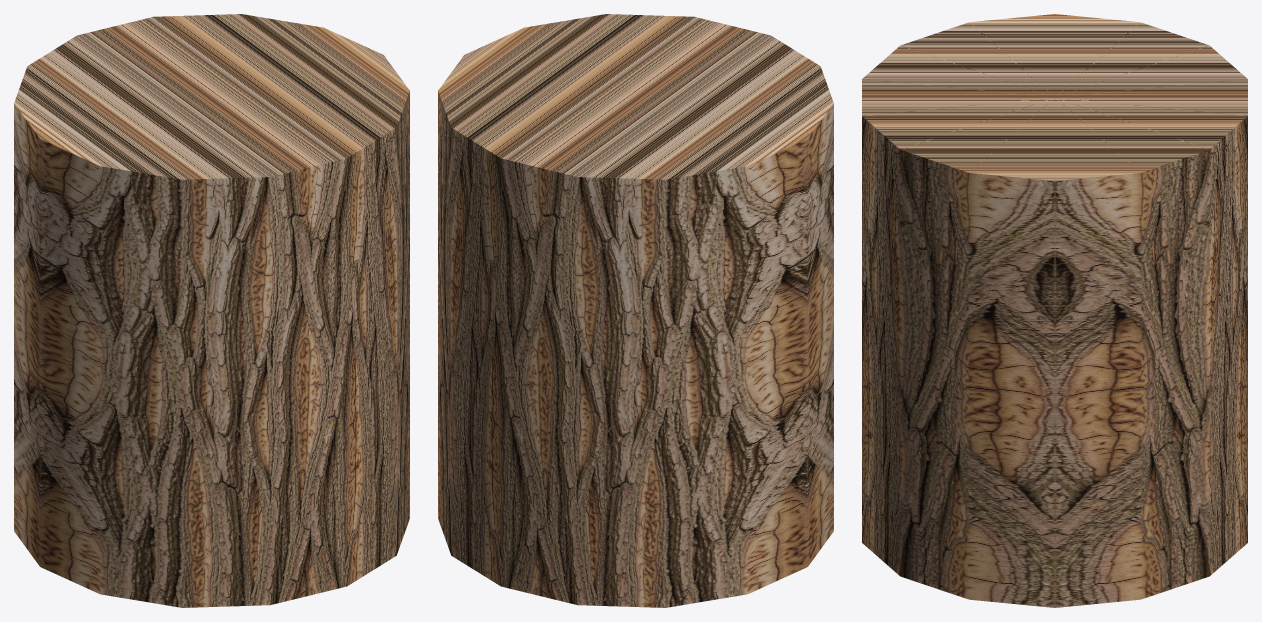
The model's file is walnutlogv.glb.
The picture shows the model from 3 angles, left to right: view 1: azimuth 30°, elevation 25°; view 2: azimuth 150°, elevation 25°; view 3: azimuth 270°, elevation 25°; orthographic projection.
Parts seen in each view (by area): view 1: Birch_Log_H_Birch; view 2: Birch_Log_H_Birch; view 3: Birch_Log_H_Birch.
Boxes of the visible parts, x1,y1,x2,y2 form: Birch_Log_H_Birch: (14,14,409,607); Birch_Log_H_Birch: (438,14,833,607); Birch_Log_H_Birch: (862,14,1247,607).
Bounding box in the file's own units: 0.84 × 1 × 0.8189.
1 material, 1 textured.
